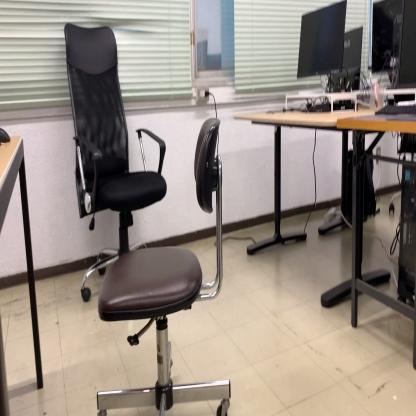chair: (94, 116, 231, 416), (63, 20, 168, 306)
